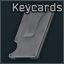Keycard holder case: (0, 0, 64, 64)
